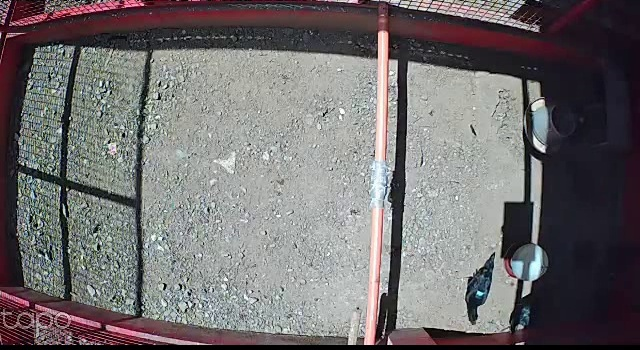Chicken: (459, 252, 499, 336), (505, 291, 549, 341)
